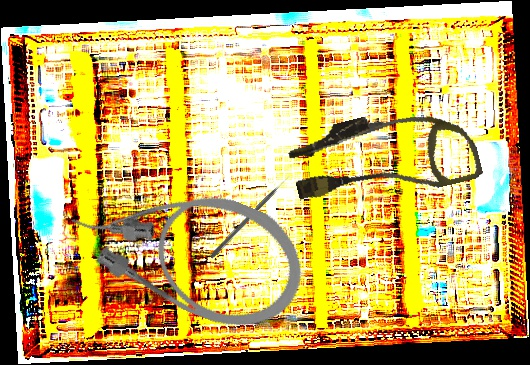Cannula: (56, 146, 321, 348), (284, 92, 484, 221)
Pusher: (209, 174, 292, 260)
